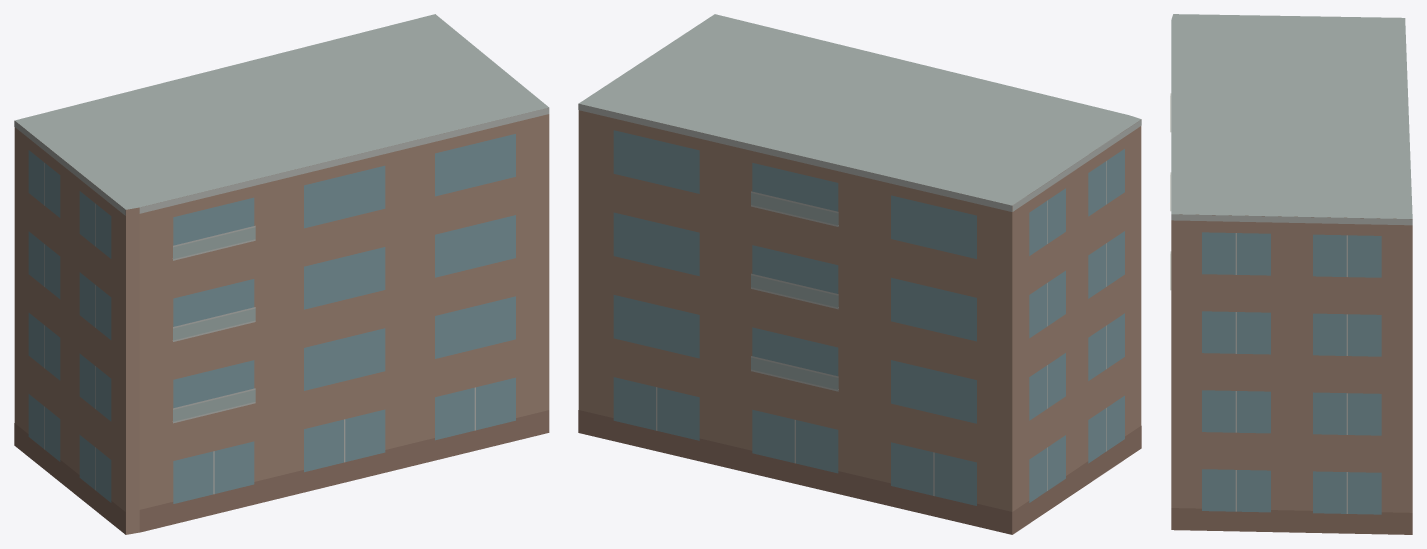
File: survey-upis-32625452.glb
3 views of the same model, side by side, from view 1: azimuth 30°, elevation 25°; view 2: azimuth 150°, elevation 25°; view 3: azimuth 270°, elevation 25° (orthographic). The views are drawn at different scales.
Visible parts, largest first — view 1: survey-upis-32625452.tmp; view 2: survey-upis-32625452.tmp; view 3: survey-upis-32625452.tmp.
Boxes of the visible parts, x1,y1,x2,y2 form: survey-upis-32625452.tmp: (14,14,549,534); survey-upis-32625452.tmp: (578,14,1141,534); survey-upis-32625452.tmp: (1170,14,1412,534).
Size of the model in its own units: 17.28 by 12.4 by 8.64.
